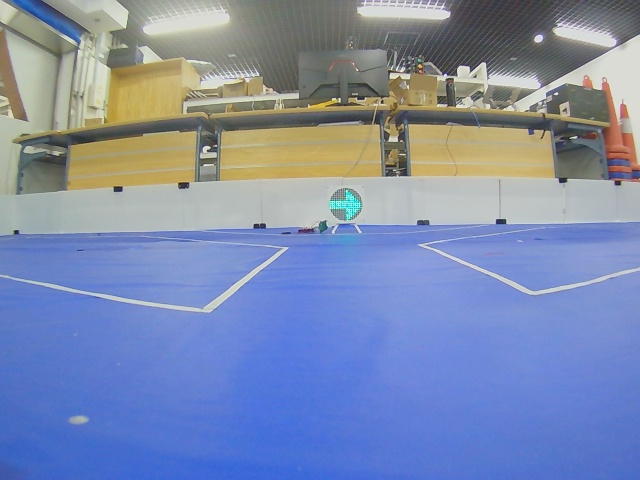right_green: (329, 188, 362, 221)
